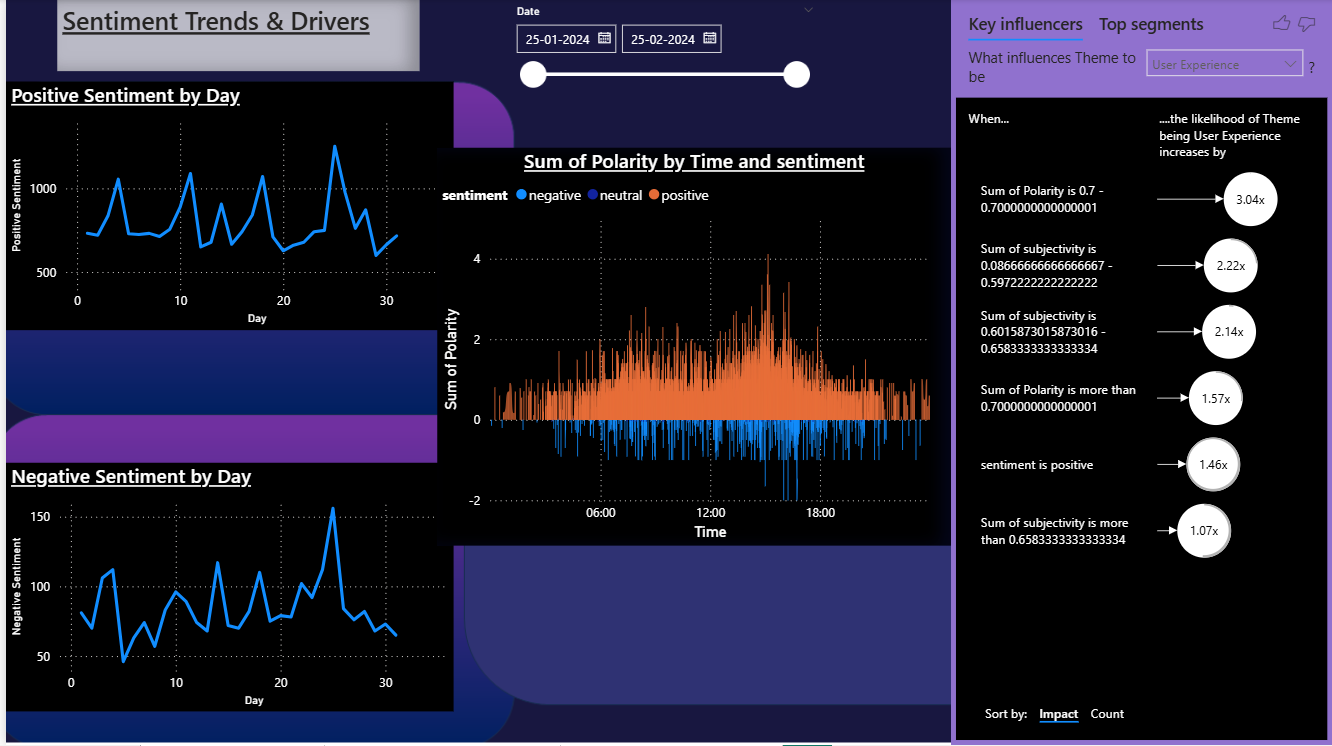

What the dashboard file says about the page in this screenshot:
{"tool":"powerbi","page":{"name":"Sentiment Trends & Drivers","canvas":[1280,720],"ordinal":1},"visuals":[{"type":"slicer","fields":{"Values":["Sheet1.date"]},"box":[480,0,312,96],"z":0},{"type":"textbox","box":[49.5,0,349.9,70],"z":1000},{"type":"lineChart","fields":{"Y":["Sheet1.PositiveSentimentCount"],"Category":["Sheet1.date.Variation.Date Hierarchy.Day"]},"box":[0,80,432,240],"z":2000},{"type":"lineChart","fields":{"Category":["Sheet1.date.Variation.Date Hierarchy.Day"],"Y":["Sheet1.NegativeSentimentCount"]},"box":[0,448,432,240],"z":3000},{"type":"ribbonChart","fields":{"Category":["Sheet1.time"],"Series":["Sheet1.sentiment"],"Y":["Sum(Sheet1.polarity)"]},"box":[416,144,496,384],"z":4000},{"type":"keyDriversVisual","fields":{"Target":["Sheet1.Theme"],"ExplainBy":["Sheet1.sentiment","Sum(Sheet1.Polarity)","Sum(Sheet1.subjectivity)"]},"box":[912,0,368,720],"z":5000}]}

Visuals, with their boxes in screenshot pixels (x1, y1, x2, y2), scaled from the page's 1280x720 canvas onto the 1332x746 screenshot:
slicer - Sheet1.date: pyautogui.locateOnScreen(499, 0, 824, 99)
textbox: pyautogui.locateOnScreen(52, 0, 416, 73)
lineChart - Sheet1.PositiveSentimentCount x Sheet1.date.Variation.Date Hierarchy.Day: pyautogui.locateOnScreen(0, 83, 450, 332)
lineChart - Sheet1.date.Variation.Date Hierarchy.Day x Sheet1.NegativeSentimentCount: pyautogui.locateOnScreen(0, 464, 450, 713)
ribbonChart - Sheet1.time x Sheet1.sentiment: pyautogui.locateOnScreen(433, 149, 949, 547)
keyDriversVisual - Sheet1.Theme x Sheet1.sentiment: pyautogui.locateOnScreen(949, 0, 1331, 745)
